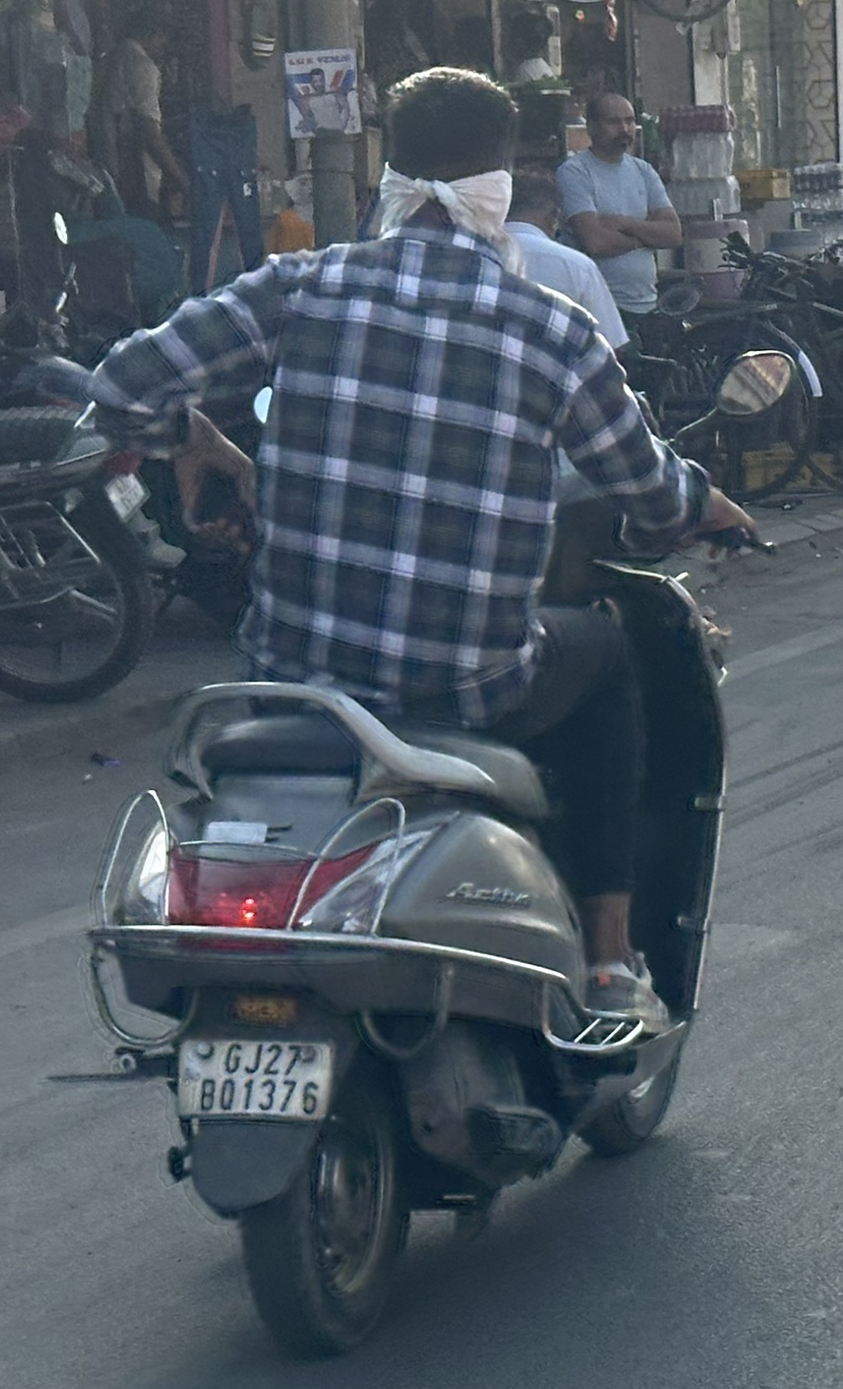BikeWithRider: (35, 50, 812, 1372)
NoHelmet: (355, 55, 537, 249)
